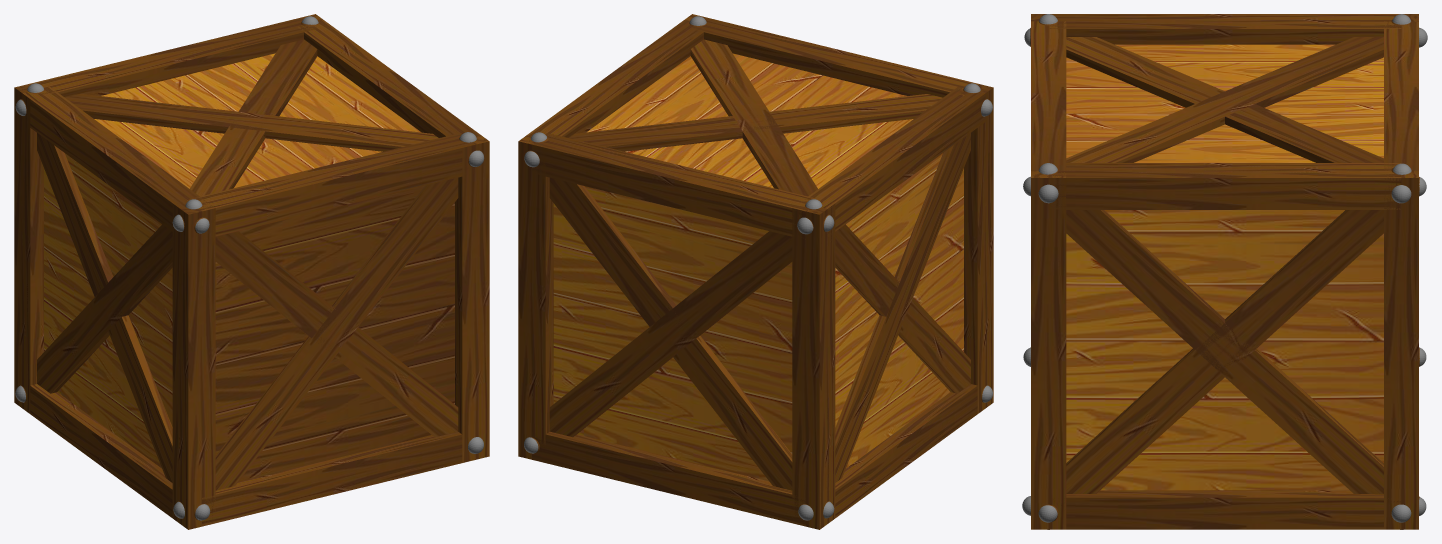
The model's file is Default crate - Joined2.fbx.
The picture shows the model from 3 angles, left to right: view 1: azimuth 30°, elevation 25°; view 2: azimuth 150°, elevation 25°; view 3: azimuth 270°, elevation 25°; orthographic projection. The views are drawn at different scales.
Parts seen in each view (by area): view 1: Default crate joined; view 2: Default crate joined; view 3: Default crate joined.
Part boxes in pixels (box(x1,y1,x2,y2)): Default crate joined: box(14, 14, 489, 529); Default crate joined: box(518, 14, 993, 529); Default crate joined: box(1022, 14, 1427, 529).
Size of the model in its own units: 103 by 103 by 103.
